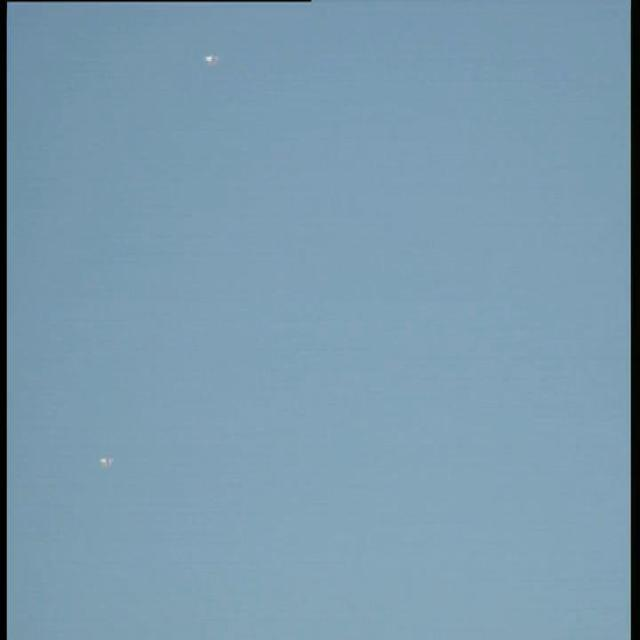drone: (95, 452, 118, 471), (199, 50, 221, 69)
